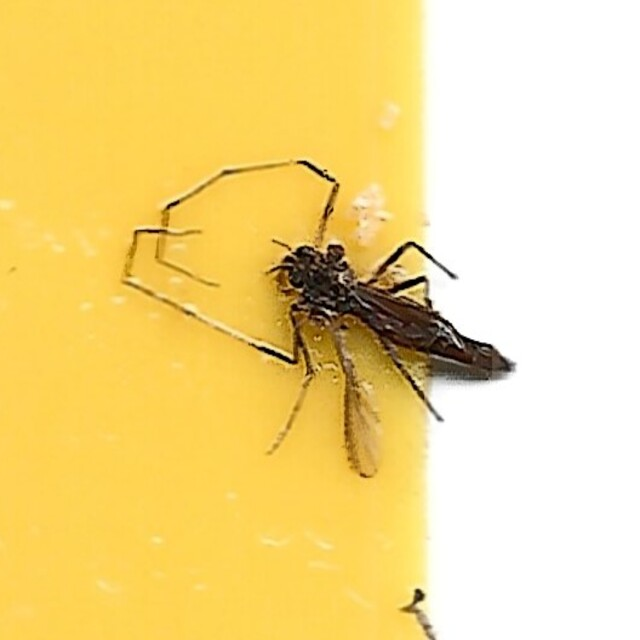Nematocera: (121, 150, 519, 490)
